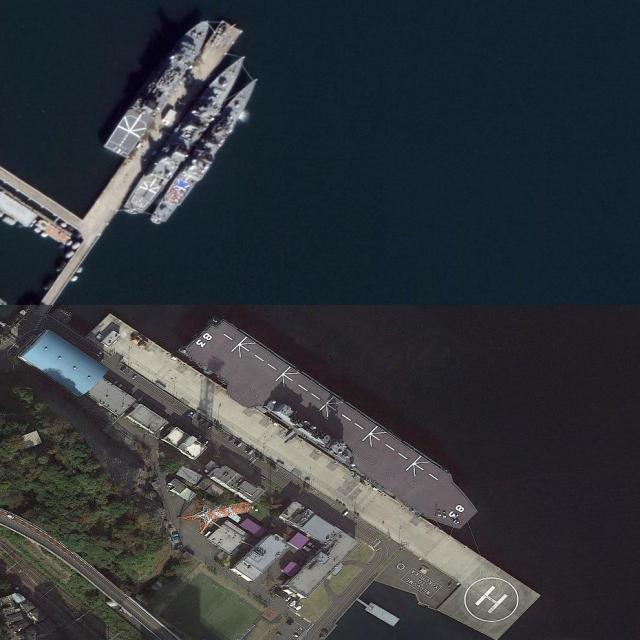Destroyer: (175, 304, 487, 542), (116, 45, 255, 222), (150, 72, 264, 226), (100, 12, 216, 161)
Dock: (84, 17, 241, 232)
